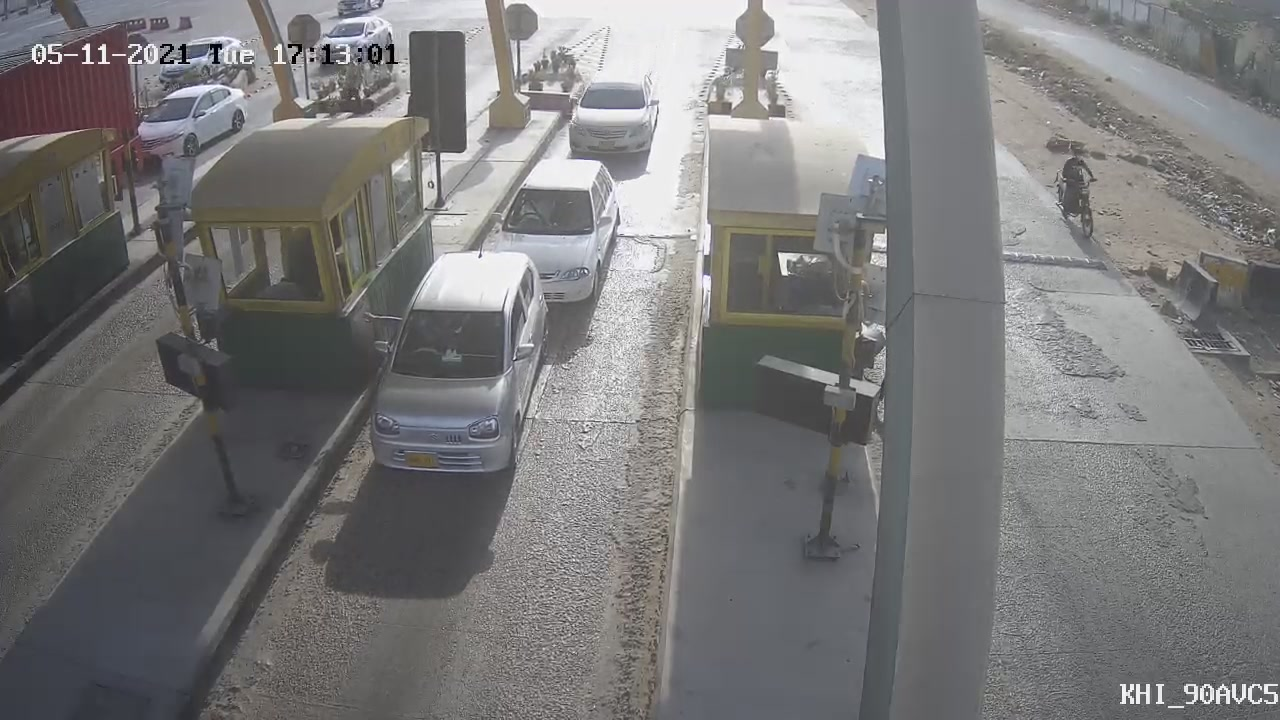F1: (353, 235, 570, 500), (555, 53, 674, 175)
